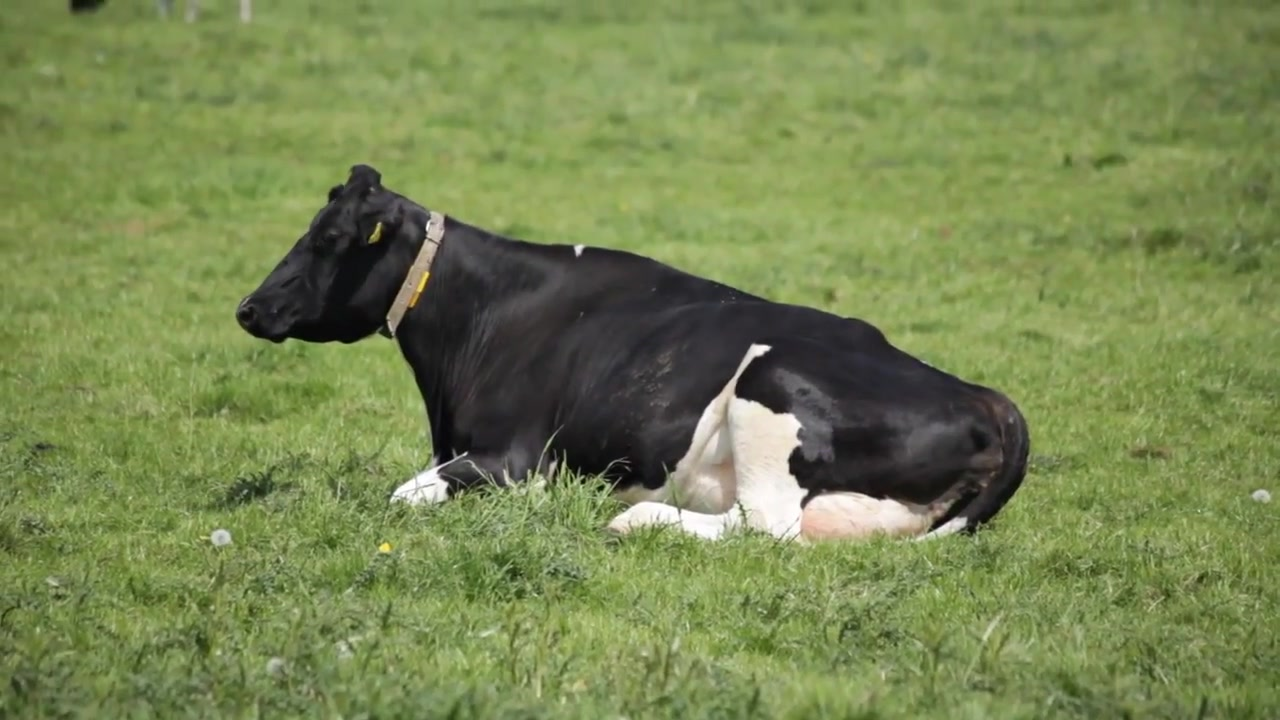cow: (233, 162, 1032, 553)
